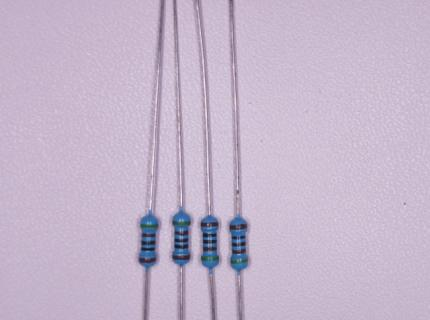Black band: (174, 244, 189, 249), (174, 238, 189, 243), (231, 242, 246, 247), (231, 235, 246, 239), (141, 241, 155, 245), (203, 233, 217, 237), (203, 240, 217, 244), (141, 248, 155, 251)
Brown band: (172, 254, 191, 260), (139, 257, 157, 263), (200, 222, 219, 227), (229, 225, 247, 230), (175, 231, 189, 236), (202, 247, 217, 251), (232, 250, 247, 254), (141, 233, 156, 237)
Green band: (140, 224, 159, 229), (172, 221, 190, 226), (201, 256, 219, 261), (231, 259, 249, 264)
